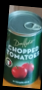tomatoes: (3, 10, 41, 86)
